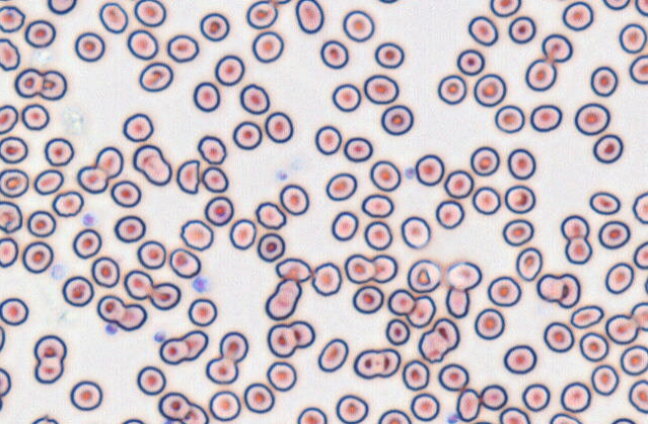PLT: (191, 276, 211, 294), (82, 212, 100, 228), (403, 165, 418, 181), (274, 167, 289, 182), (104, 322, 120, 336), (152, 330, 166, 344), (446, 412, 461, 424)
RBC: (417, 317, 459, 362), (158, 329, 208, 365), (132, 144, 171, 185), (536, 272, 580, 308), (264, 279, 301, 320), (353, 347, 400, 379), (406, 259, 441, 293), (574, 102, 610, 135), (445, 260, 482, 291), (473, 73, 506, 106), (179, 219, 213, 251), (311, 261, 342, 296), (363, 74, 399, 104), (251, 30, 283, 63), (342, 9, 374, 42), (317, 338, 348, 372), (487, 275, 521, 306), (400, 215, 431, 249), (138, 62, 173, 92), (62, 275, 94, 307), (266, 324, 297, 357), (208, 390, 241, 421), (69, 380, 102, 411), (605, 313, 638, 344), (525, 58, 556, 91), (380, 104, 413, 135), (169, 247, 201, 278), (126, 29, 158, 60), (22, 241, 53, 273), (369, 160, 401, 191), (406, 295, 436, 328), (503, 344, 536, 374), (243, 382, 274, 413), (560, 381, 591, 412), (543, 321, 574, 352), (239, 83, 270, 114), (74, 31, 105, 62), (467, 15, 498, 46), (474, 308, 504, 340), (604, 262, 634, 294), (414, 154, 444, 186), (214, 54, 244, 86), (279, 183, 309, 215), (335, 394, 368, 423), (295, 0, 324, 33), (275, 257, 311, 283), (123, 269, 153, 300), (344, 253, 375, 283), (352, 284, 383, 314), (579, 331, 609, 362), (72, 228, 102, 259), (541, 33, 572, 63), (122, 112, 153, 142), (562, 1, 593, 31), (98, 2, 128, 33), (592, 133, 623, 163), (158, 391, 190, 420), (219, 331, 248, 363), (149, 281, 181, 310), (94, 146, 123, 178), (590, 364, 619, 396), (91, 256, 120, 288), (325, 172, 357, 201), (24, 19, 56, 48), (246, 0, 278, 29), (598, 220, 630, 249), (264, 111, 293, 143), (205, 356, 238, 384), (166, 34, 199, 62), (515, 247, 542, 281), (266, 361, 296, 391), (136, 365, 166, 395), (204, 196, 234, 226), (232, 120, 262, 150), (14, 67, 43, 98), (38, 69, 67, 100), (443, 169, 474, 198), (114, 214, 145, 243), (504, 184, 535, 213), (34, 334, 66, 362), (437, 363, 469, 391), (76, 165, 108, 193), (502, 218, 534, 246), (530, 104, 562, 132), (590, 65, 618, 97), (51, 190, 84, 217), (133, 0, 166, 27), (187, 297, 217, 326), (256, 232, 285, 262), (136, 240, 166, 269), (363, 220, 392, 250), (0, 168, 29, 198), (435, 199, 464, 229), (44, 137, 74, 166), (470, 146, 499, 176), (494, 104, 524, 133), (437, 74, 466, 104), (331, 83, 361, 112), (199, 12, 229, 41), (116, 303, 147, 331), (401, 359, 429, 390), (255, 201, 286, 229), (110, 179, 141, 207), (507, 148, 535, 179), (620, 344, 647, 376), (229, 218, 256, 250), (455, 388, 481, 421), (410, 392, 439, 421), (471, 186, 500, 215), (197, 135, 226, 164), (320, 39, 348, 69), (618, 23, 646, 53), (33, 168, 64, 195), (193, 81, 220, 112), (314, 124, 341, 155), (570, 304, 603, 329), (96, 294, 125, 322), (521, 383, 550, 411), (0, 297, 28, 326), (27, 209, 56, 237), (331, 211, 358, 241), (361, 193, 393, 218), (34, 357, 63, 384), (374, 42, 404, 68), (445, 286, 469, 318), (387, 288, 415, 315), (564, 237, 592, 264), (0, 136, 28, 163), (456, 48, 484, 75), (21, 103, 49, 130), (508, 16, 535, 44), (560, 214, 589, 240), (371, 254, 397, 283), (343, 136, 372, 162), (589, 191, 620, 215), (201, 166, 228, 193), (289, 320, 315, 348), (479, 384, 507, 410), (0, 200, 22, 233), (385, 318, 410, 345), (0, 5, 25, 32), (628, 379, 647, 414), (0, 38, 20, 71), (0, 236, 18, 268), (181, 402, 208, 423), (498, 406, 530, 423), (489, 0, 521, 17), (0, 104, 18, 134), (629, 54, 647, 84), (296, 406, 327, 423), (630, 301, 647, 331), (377, 408, 411, 423), (632, 191, 647, 224), (47, 0, 76, 15), (633, 240, 647, 269), (549, 412, 582, 423), (0, 367, 11, 397), (602, 0, 630, 10), (30, 414, 59, 423), (634, 0, 648, 16), (610, 417, 636, 423), (162, 418, 186, 424), (120, 417, 144, 423), (0, 325, 5, 351), (470, 419, 493, 424), (269, 0, 291, 5), (377, 0, 399, 4), (644, 274, 648, 295)
Schistocyte: (176, 158, 200, 196)
